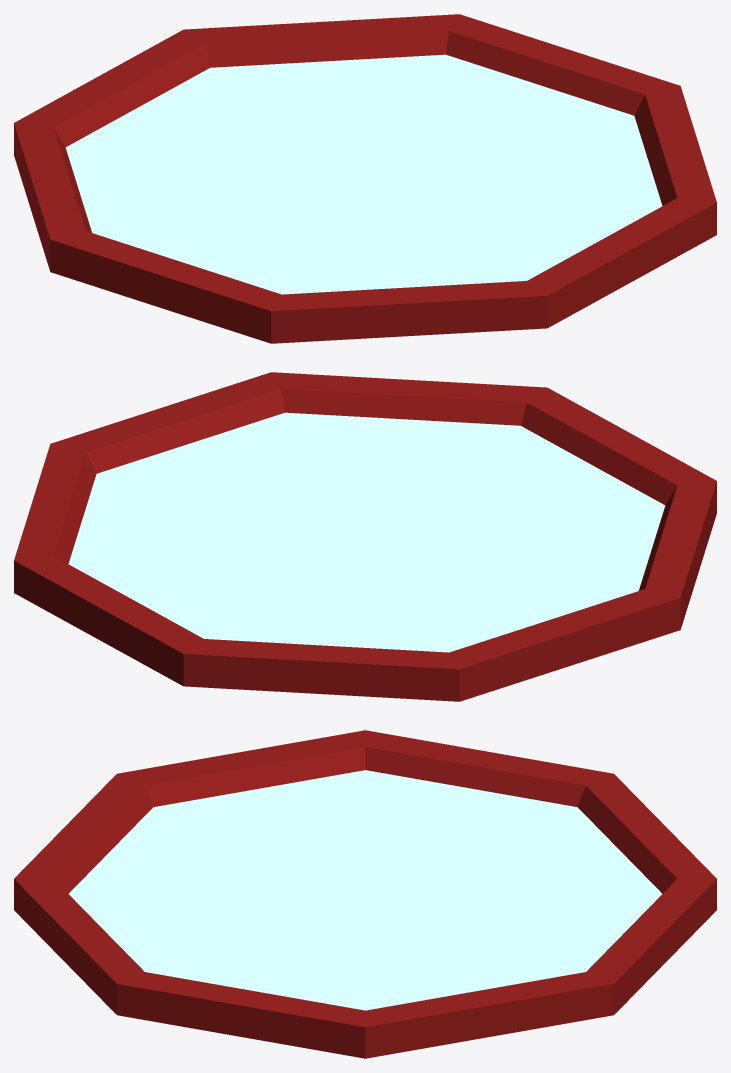
File: Teleporter.fbx
3 renders of one model, top to bottom at view 1: azimuth 30°, elevation 25°; view 2: azimuth 150°, elevation 25°; view 3: azimuth 270°, elevation 25°, orthographic. The views are drawn at different scales.
Parts seen in each view (by area): view 1: Cylinder; view 2: Cylinder; view 3: Cylinder.
Boxes of the visible parts, x1,y1,x2,y2 form: Cylinder: (14, 14, 716, 343); Cylinder: (14, 372, 716, 701); Cylinder: (14, 730, 716, 1058).
Size of the model in its own units: 200 by 9.86 by 200.
